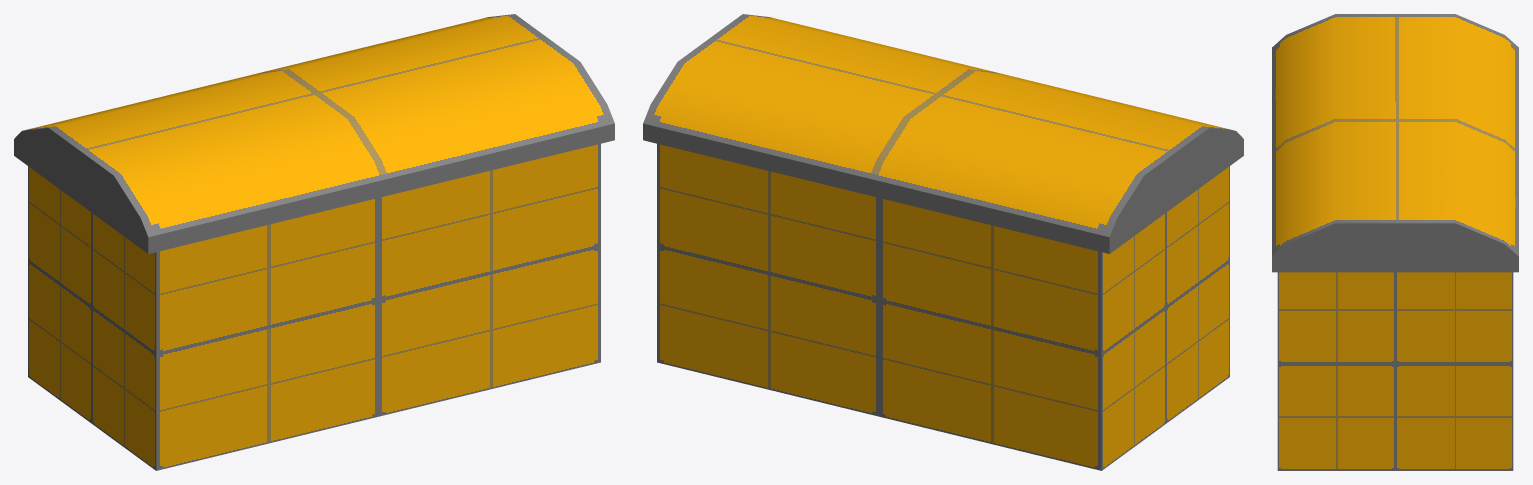
File: Chest.FBX
3 renders of one model, left to right at view 1: azimuth 30°, elevation 25°; view 2: azimuth 150°, elevation 25°; view 3: azimuth 270°, elevation 25°, orthographic. The views are drawn at different scales.
Parts seen in each view (by area): view 1: Box001, Box002; view 2: Box001, Box002; view 3: Box002, Box001.
Boxes of the visible parts, x1,y1,x2,y2 form: Box001: (28,143,600,470); Box002: (14,14,614,253); Box001: (657,143,1229,470); Box002: (643,14,1243,253); Box002: (1272,14,1518,272); Box001: (1277,272,1513,470).
Bounding box in the file's own units: 126 × 70.87 × 62.76.
Materials: 1 (1 with a texture image).
